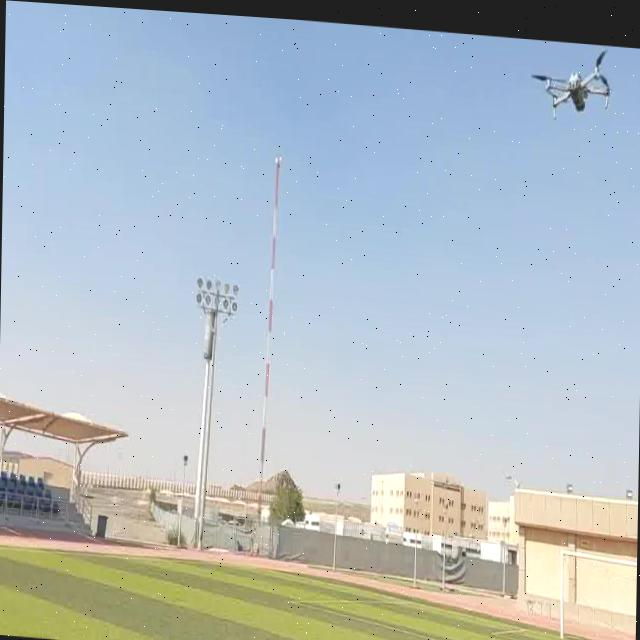drone: (526, 33, 614, 117)
